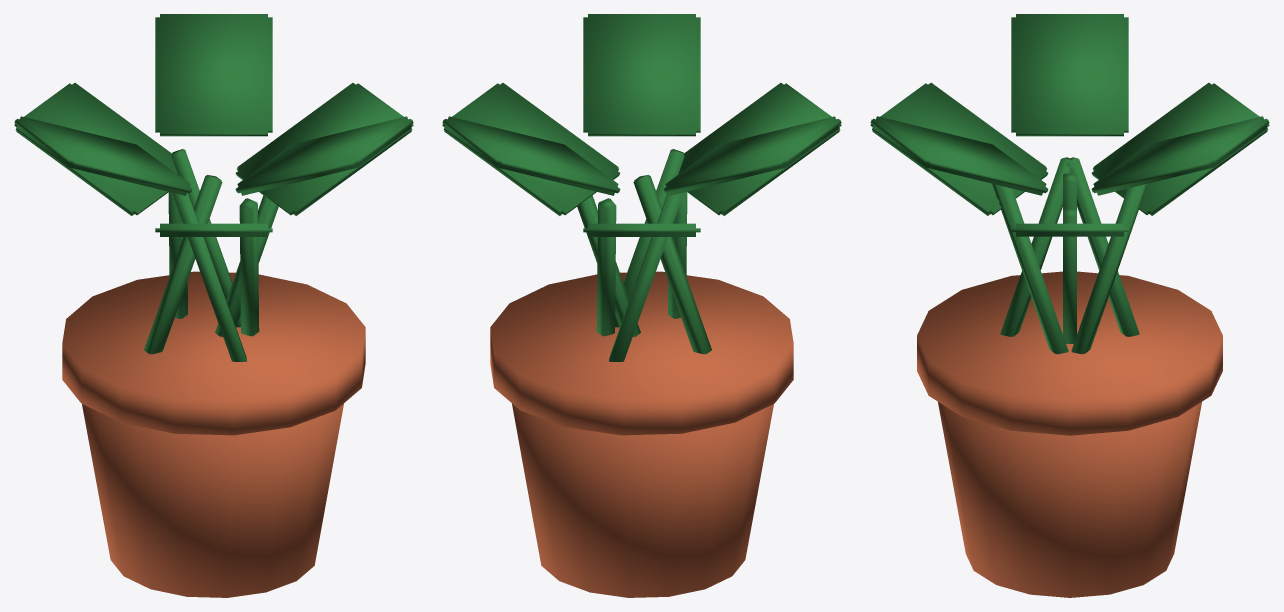
Rendered from Nature_PottedMonstera.glb.
The picture shows the model from 3 angles, left to right: view 1: azimuth 30°, elevation 25°; view 2: azimuth 150°, elevation 25°; view 3: azimuth 270°, elevation 25°; orthographic projection.
Parts seen in each view (by area): view 1: Nature_PottedMonstera, Nature_PottedMonstera_Pot, Nature_PottedMonstera_Rim; view 2: Nature_PottedMonstera, Nature_PottedMonstera_Pot, Nature_PottedMonstera_Rim; view 3: Nature_PottedMonstera, Nature_PottedMonstera_Pot, Nature_PottedMonstera_Rim.
Part boxes in pixels (bbox=[...]): Nature_PottedMonstera: bbox=[14, 14, 413, 361]; Nature_PottedMonstera_Pot: bbox=[82, 403, 343, 597]; Nature_PottedMonstera_Rim: bbox=[62, 271, 365, 435]; Nature_PottedMonstera: bbox=[442, 14, 841, 361]; Nature_PottedMonstera_Pot: bbox=[512, 403, 773, 597]; Nature_PottedMonstera_Rim: bbox=[490, 271, 793, 435]; Nature_PottedMonstera: bbox=[870, 14, 1269, 354]; Nature_PottedMonstera_Pot: bbox=[938, 402, 1201, 597]; Nature_PottedMonstera_Rim: bbox=[917, 271, 1222, 435].
Bounding box in the file's own units: 0.612 × 0.7768 × 0.6131.
